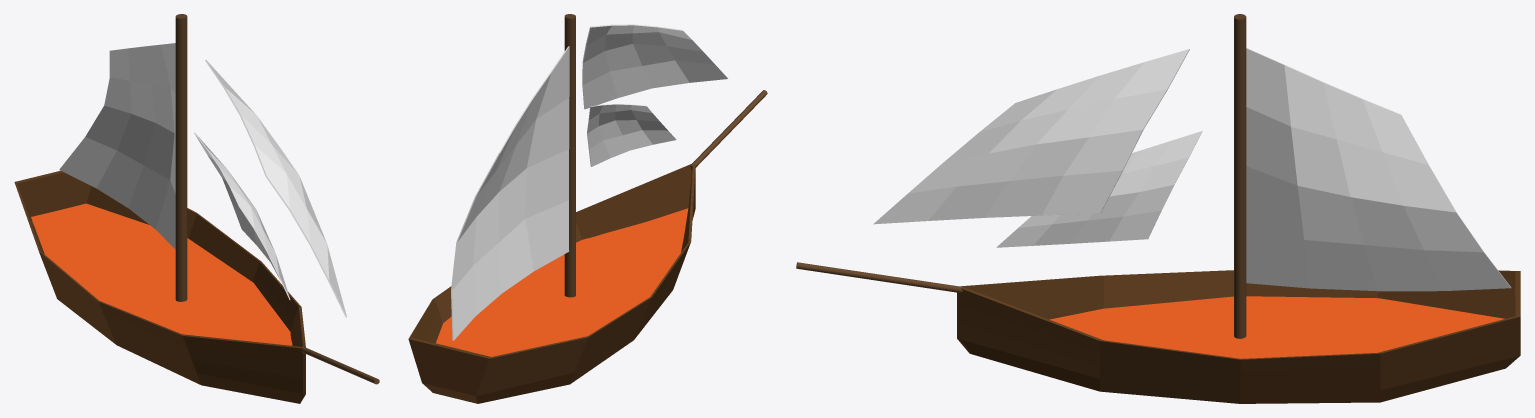
File: SmallSloop 2.fbx
3 views of the same model, side by side, from view 1: azimuth 30°, elevation 25°; view 2: azimuth 150°, elevation 25°; view 3: azimuth 270°, elevation 25° (orthographic). The views are drawn at different scales.
Visible parts, largest first — view 1: Hull, Plane, Main Sail, Secondary Sail M, Main mast, Secondary Sail S, Secondary mast; view 2: Main Sail, Hull, Plane, Secondary Sail M, Secondary Sail S, Main mast, Secondary mast; view 3: Main Sail, Hull, Secondary Sail M, Plane, Secondary Sail S, Main mast, Secondary mast.
Boxes of the visible parts, <box> form: Hull: <box>14,170,305,403</box>; Plane: <box>31,203,292,345</box>; Main Sail: <box>59,43,175,249</box>; Secondary Sail M: <box>205,60,346,317</box>; Main mast: <box>175,14,187,301</box>; Secondary Sail S: <box>194,132,290,299</box>; Secondary mast: <box>301,346,379,384</box>; Main Sail: <box>451,46,569,340</box>; Hull: <box>408,164,695,403</box>; Plane: <box>436,208,688,356</box>; Secondary Sail M: <box>582,24,727,109</box>; Secondary Sail S: <box>587,104,676,166</box>; Main mast: <box>564,14,575,297</box>; Secondary mast: <box>690,90,767,170</box>; Main Sail: <box>1246,48,1511,291</box>; Hull: <box>957,270,1520,403</box>; Secondary Sail M: <box>873,49,1189,224</box>; Plane: <box>1049,296,1504,358</box>; Secondary Sail S: <box>996,131,1202,247</box>; Main mast: <box>1234,14,1246,338</box>; Secondary mast: <box>796,262,965,292</box>.
Size of the model in its own units: 471 by 861 by 1602.
